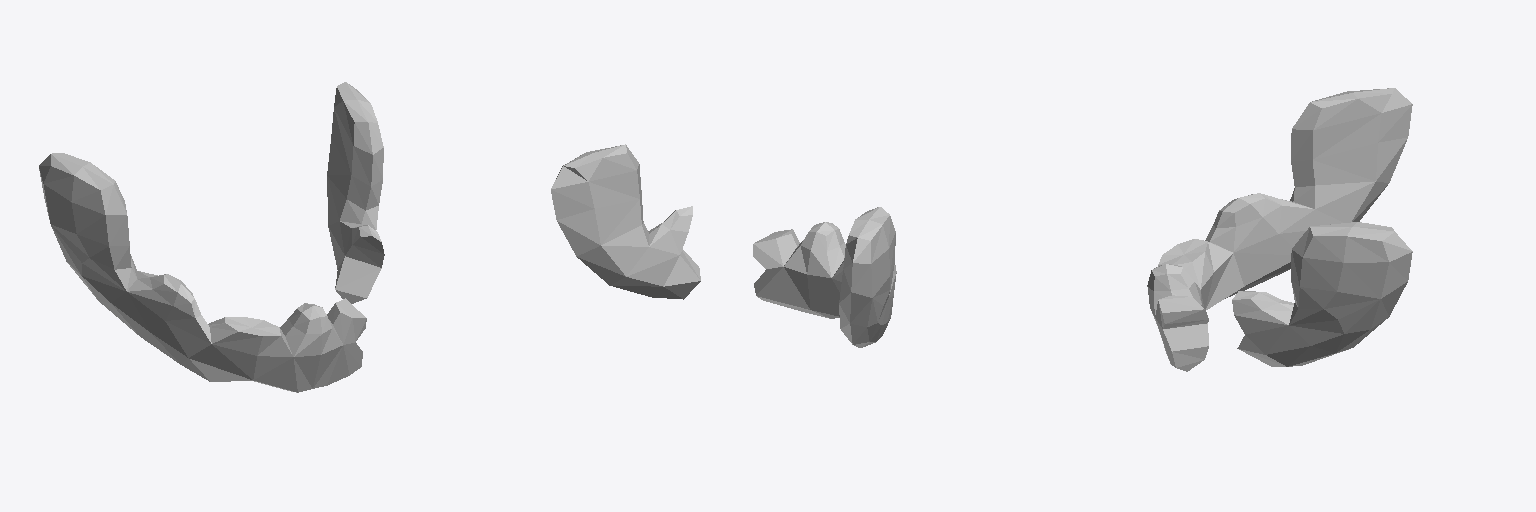
The model's file is character_skeleton_mage_jaw_broken.obj.
3 views of the same model, side by side, from view 1: azimuth 30°, elevation 25°; view 2: azimuth 150°, elevation 25°; view 3: azimuth 270°, elevation 25° (orthographic).
Visible parts, largest first — view 1: character_skeleton_mage_jaw_broken_Cube.7692; view 2: character_skeleton_mage_jaw_broken_Cube.7692; view 3: character_skeleton_mage_jaw_broken_Cube.7692.
Part boxes in pixels (bbox=[...]): character_skeleton_mage_jaw_broken_Cube.7692: bbox=[39, 82, 384, 392]; character_skeleton_mage_jaw_broken_Cube.7692: bbox=[551, 144, 896, 347]; character_skeleton_mage_jaw_broken_Cube.7692: bbox=[1147, 88, 1412, 371].
Size of the model in its own units: 0.5473 by 0.3191 by 0.3982.